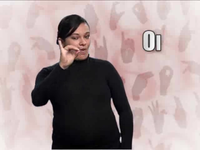oi: (57, 38, 79, 67)
